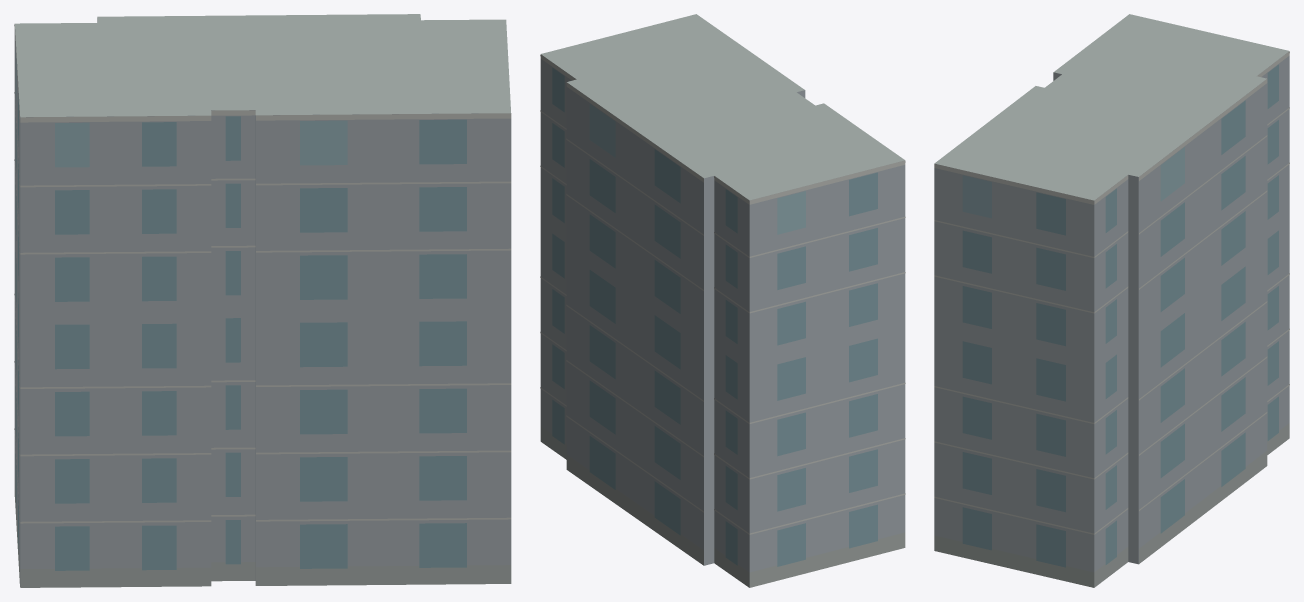
The model's file is survey-upis-32769842.glb.
The picture shows the model from 3 angles, left to right: view 1: azimuth 30°, elevation 25°; view 2: azimuth 150°, elevation 25°; view 3: azimuth 270°, elevation 25°; orthographic projection. The views are drawn at different scales.
Parts seen in each view (by area): view 1: survey-upis-32769842.tmp; view 2: survey-upis-32769842.tmp; view 3: survey-upis-32769842.tmp.
Part boxes in pixels (x1,y1,x2,y2): survey-upis-32769842.tmp: (14, 14, 511, 587); survey-upis-32769842.tmp: (540, 14, 905, 587); survey-upis-32769842.tmp: (934, 14, 1289, 587).
Bounding box in the file's own units: 22.08 × 21.35 × 17.78.
